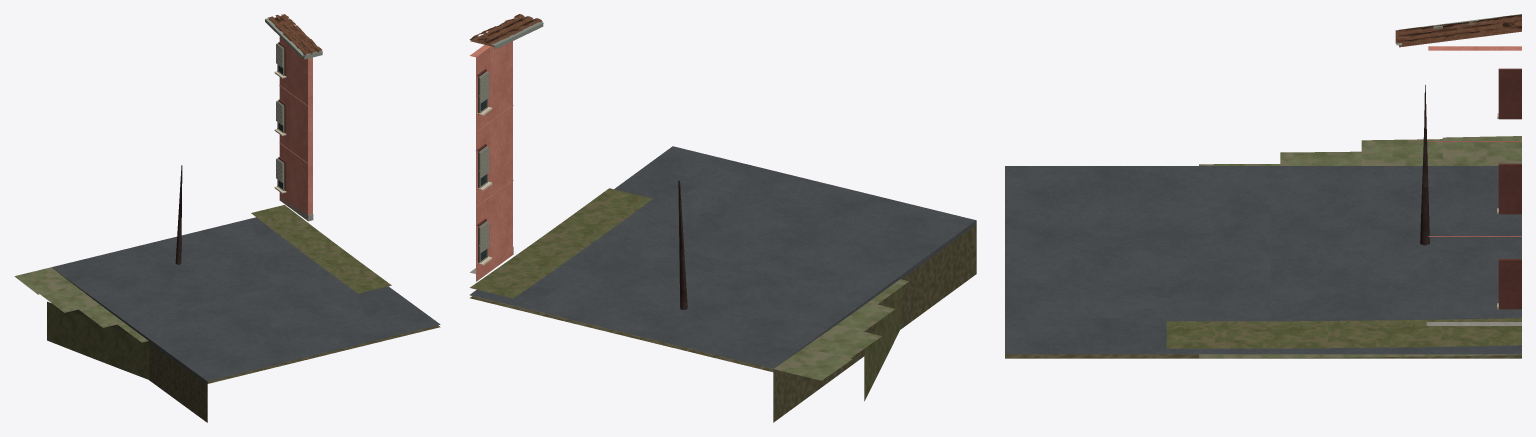
3 views of the same model, side by side, from view 1: azimuth 30°, elevation 25°; view 2: azimuth 150°, elevation 25°; view 3: azimuth 270°, elevation 25° (orthographic). The views are drawn at different scales.
Size of the model in its own units: 16 by 13.5 by 16.
Materials: 14 (12 with a texture image).
